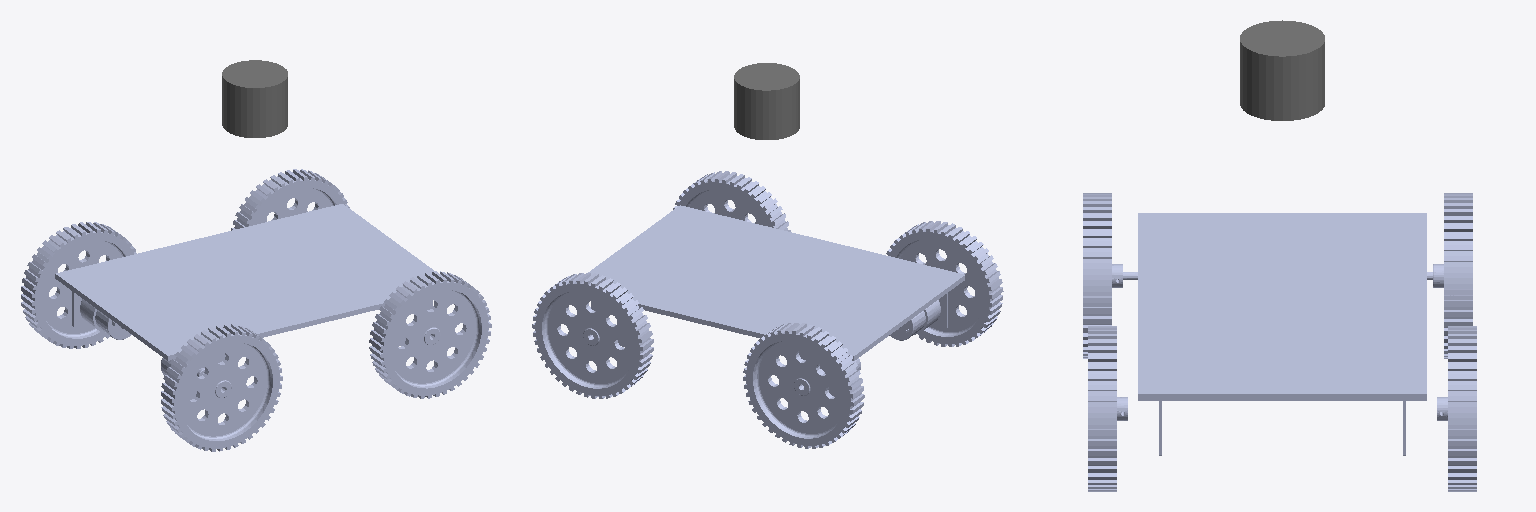
The robot description file, URDF, robot "Assem2":
<?xml version="1.0" encoding="utf-8"?>
<robot name="Assem2">
  <link name="base_link">
    <inertial>
      <origin xyz="0.00514922200588644 -0.000645531520592497 -0.021693142572596" rpy="0 0 0" />
      <mass value="0.953646820553385" />
      <inertia ixx="0.00172415000938307" ixy="-9.81053755392908E-09" ixz="-6.79266683823958E-10"
               iyy="0.00346746852219484" iyz="-2.30075874022048E-09" izz="0.00431421860542956" />
    </inertial>
    <visual>
      <origin xyz="0 0 0" rpy="0 0 0" />
      <geometry>
        <mesh filename= "package://esp32_bridge/meshes/base_link.STL" />
      </geometry>
      <material name="">
        <color rgba="0.792156862745098 0.819607843137255 0.933333333333333 1" />
      </material>
    </visual>
    <collision>
      <origin xyz="0 0 0" rpy="0 0 0" />
      <geometry>
        <mesh filename="package://esp32_bridge/meshes/base_link.STL" />
      </geometry>
    </collision>
  </link>

  <link name="laser">
    <inertial>
      <origin xyz="0 0 0" rpy="0 0 0"/>
      <mass value="0.15"/>
      <inertia ixx="0.0001" ixy="0" ixz="0" iyy="0.0001" iyz="0" izz="0.0001"/>
    </inertial>
    <visual>
      <origin xyz="0 0 0" rpy="0 0 0"/>
      <geometry>
        <cylinder radius="0.03" length="0.05"/>
      </geometry>
      <material name="">
        <color rgba="0.5 0.5 0.5 1"/>
      </material>
    </visual>
    <collision>
      <origin xyz="0 0 0" rpy="0 0 0"/>
      <geometry>
        <cylinder radius="0.03" length="0.05"/>
      </geometry>
    </collision>
  </link>
  <joint name="base_to_laser" type="fixed">
    <origin xyz="0 0 0.18" rpy="0 0 0"/>
    <parent link="base_link"/>
    <child link="laser"/>
  </joint>
</robot>

--- What the picture shows (computed from the rendered views, not written in the file) ---
The picture shows the robot from 3 angles, left to right: view 1: azimuth 30°, elevation 25°; view 2: azimuth 150°, elevation 25°; view 3: azimuth 270°, elevation 25°; orthographic projection.
Robot: Assem2 — 2 links, 1 joints (1 fixed); root link base_link; default pose: every joint at zero.
Links seen in each view (by area): view 1: base_link, laser; view 2: base_link, laser; view 3: base_link, laser.
Boxes of the visible links, left/top/right/bottom form: base_link: left=21, top=169, right=491, bottom=451; laser: left=222, top=60, right=287, bottom=137; base_link: left=532, top=171, right=1003, bottom=448; laser: left=734, top=63, right=799, bottom=139; base_link: left=1083, top=193, right=1476, bottom=491; laser: left=1240, top=20, right=1324, bottom=120.
Bounding box of the posed robot: 0.336 × 0.2758 × 0.293 m (x, y, z).
Meshes: 1 distinct files referenced, 1 mesh visuals loaded (1 binary STL).